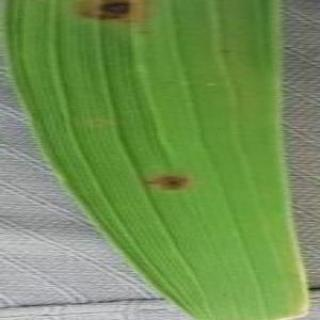bercak-Cokelat: (77, 0, 150, 22), (145, 175, 191, 190)
